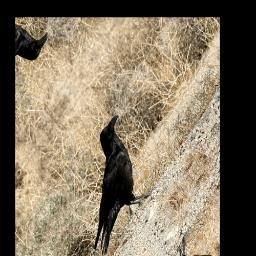Crow: (54, 110, 166, 256)
